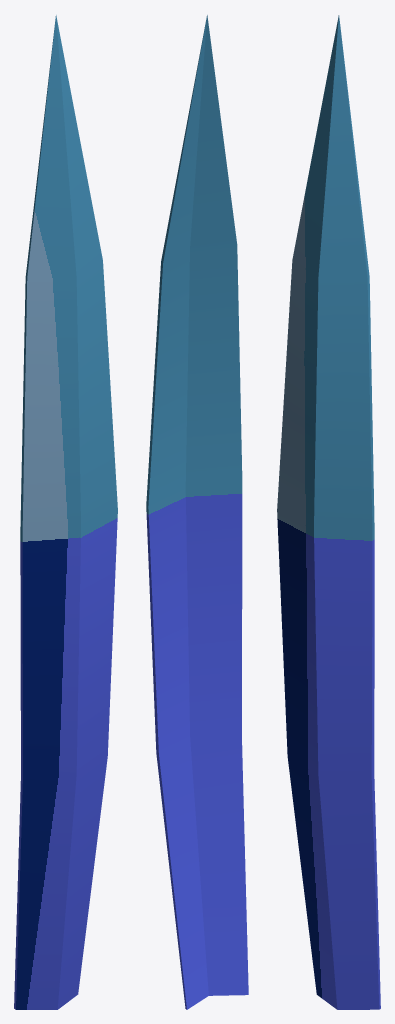
The model's file is brin d'herbe.fbx.
The picture shows the model from 3 angles, left to right: view 1: azimuth 30°, elevation 25°; view 2: azimuth 210°, elevation 25°; view 3: azimuth 330°, elevation 25°; orthographic projection.
Visible parts, largest first — view 1: Plane; view 2: Plane; view 3: Plane.
Part boxes in pixels (x1,y1,x2,y2): Plane: [14, 15, 117, 1009]; Plane: [146, 15, 248, 1009]; Plane: [277, 15, 380, 1009].
Bounding box in the file's own units: 20.07 × 200 × 13.1.
